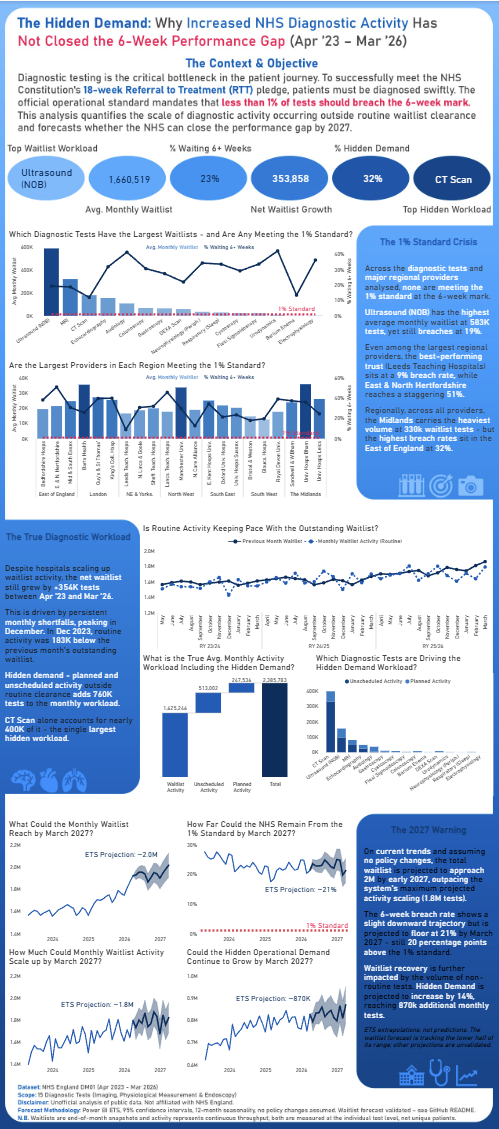

What the dashboard file says about the page in this screenshot:
{"tool":"powerbi","page":{"name":"Final Infographic","canvas":[1280,2885],"ordinal":0},"visuals":[{"type":"textbox","box":[20,577.1,890,42.9],"z":0},{"type":"lineClusteredColumnComboChart","fields":{"Y2":["_Measures.% Waiting at 6+ weeks","_Measures.1% Target"],"Y":["_Measures.Average Monthly Waitlist"],"Category":["Dim_Diagnostic_Test.Diagnostic Test Name (Refined)"]},"box":[24.3,612.9,880,301],"z":1000},{"type":"textbox","box":[20,910,667.1,40],"z":2000},{"type":"lineClusteredColumnComboChart","fields":{"Y":["_Measures.Average Monthly Waitlist"],"Y2":["_Measures.% Waiting at 6+ weeks","_Measures.1% Target"],"Category":["Dim_Region.Regional Team Name Refined","Dim_Provider.Provider Name Refined"]},"box":[24.3,947.1,880,330],"z":3000},{"type":"lineChart","fields":{"Y":["_Measures.Previous Month Waitlist","Sum(Fact_Provider.Waiting list tests / procedures (excluding planned))"],"Category":["Dim_Date.Reporting Year","Dim_Date.Month Name"]},"box":[365.7,1357.1,890,307.1],"z":4000},{"type":"textbox","box":[361.2,1327.5,730,37.5],"z":5000},{"type":"textbox","box":[362.1,1659.1,445,61.7],"z":6000},{"type":"textbox","box":[802.5,1658.8,383.8,62.5],"z":7000},{"type":"waterfallChart","fields":{"Category":["_Waterfall Categories.Activity Type"],"Y":["_Measures.Waterfall Total Activity"]},"box":[364.3,1713.2,412.9,314.3],"z":8000},{"type":"columnChart","fields":{"Y":["_Measures.Avg Unscheduled Activity","_Measures.Avg Planned Activity"],"Category":["Dim_Diagnostic_Test.Diagnostic Test Name Refined"]},"box":[777.1,1713.2,482.9,314.3],"z":9000},{"type":"lineChart","fields":{"Category":["Fact_Provider.Reporting Period"],"Y":["Sum(Fact_Provider.Total Waiting List)"]},"box":[23.8,2138.4,430,270],"z":10000},{"type":"lineChart","fields":{"Category":["Fact_Provider.Reporting Period"],"Y":["_Measures.% Waiting at 6+ weeks"]},"box":[475,2138.4,430,270],"z":11000},{"type":"textbox","box":[20,2081,378.8,60],"z":12000},{"type":"textbox","box":[475,2081,412.5,60],"z":13000},{"type":"lineChart","fields":{"Category":["Fact_Provider.Reporting Period"],"Y":["Sum(Fact_Provider.Waiting list tests / procedures (excluding planned))"]},"box":[23.8,2471.5,430,270],"z":14000},{"type":"lineChart","fields":{"Category":["Fact_Provider.Reporting Period"],"Y":["_Measures.Additional Demand (Hidden)"]},"box":[475,2471.5,430,270],"z":15000},{"type":"textbox","box":[21.2,2408.5,417.5,60],"z":16000},{"type":"textbox","box":[475,2408.7,428.8,60],"z":17000},{"type":"textbox","box":[215,2161.2,200,32.5],"z":18000},{"type":"cardVisual","fields":{"Data":["_Measures.Most Popular Test"]},"box":[28.6,370,210,162.9],"z":19000},{"type":"cardVisual","fields":{"Data":["_Measures.Average Monthly Waitlist"]},"box":[248.8,402.5,191.2,100],"z":20000},{"type":"cardVisual","fields":{"Data":["_Measures.% Waiting at 6+ weeks"]},"box":[485.7,401.4,121.4,100],"z":21000},{"type":"cardVisual","fields":{"Data":["_Measures.Total Waitlist Growth"]},"box":[668.8,398.8,156.2,107.5],"z":22000},{"type":"cardVisual","fields":{"Data":["_Measures.% Additional Demand"]},"box":[900,401.4,110,102.9],"z":23000},{"type":"cardVisual","fields":{"Data":["_Measures.Most Popular Additional Demand Test"]},"box":[1083.8,385,162.5,137.5],"z":24000},{"type":"textbox","box":[966.7,595.6,268.9,37.8],"z":25000},{"type":"textbox","box":[12.9,1345.7,336,42],"z":26000},{"type":"textbox","box":[994.4,2094.4,214.4,38.9],"z":27000},{"type":"textbox","box":[371.1,614.4,151.1,28.9],"z":28000},{"type":"textbox","box":[516.7,614.4,142.2,34.4],"z":29000},{"type":"textbox","box":[707.5,771.2,105,33.8],"z":30000},{"type":"textbox","box":[516.7,946.7,142.2,34.4],"z":31000},{"type":"textbox","box":[716.2,1086.2,107.5,35],"z":32000},{"type":"textbox","box":[370,946.7,152.2,34.4],"z":33000},{"type":"textbox","box":[927.5,663.8,341.2,502.5],"z":34000},{"type":"textbox","box":[10,1427.5,337.5,481.2],"z":35000},{"type":"textbox","box":[925,2150,341.2,533.8],"z":36000},{"type":"textbox","box":[778.8,2341.2,127.5,33.8],"z":37000},{"type":"textbox","box":[152.5,2543.8,200,32.5],"z":38000},{"type":"textbox","box":[672.5,2250,197.5,32.5],"z":39000},{"type":"textbox","box":[598.8,2527.5,205,32.5],"z":40000}]}

Visuals, with their boxes in screenshot pixels (x1, y1, x2, y2), scaled from the page's 1280x2885 canvas onto the 499x1129 screenshot:
textbox: x1=8, y1=226, x2=355, y2=243
lineClusteredColumnComboChart - _Measures.% Waiting at 6+ weeks x _Measures.1% Target: x1=9, y1=240, x2=353, y2=358
textbox: x1=8, y1=356, x2=268, y2=372
lineClusteredColumnComboChart - _Measures.Average Monthly Waitlist x _Measures.% Waiting at 6+ weeks: x1=9, y1=371, x2=353, y2=500
lineChart - _Measures.Previous Month Waitlist x Sum(Fact_Provider.Waiting list tests / procedures (excluding planned)): x1=143, y1=531, x2=490, y2=651
textbox: x1=141, y1=519, x2=425, y2=534
textbox: x1=141, y1=649, x2=315, y2=673
textbox: x1=313, y1=649, x2=462, y2=674
waterfallChart - _Waterfall Categories.Activity Type x _Measures.Waterfall Total Activity: x1=142, y1=670, x2=303, y2=793
columnChart - _Measures.Avg Unscheduled Activity x _Measures.Avg Planned Activity: x1=303, y1=670, x2=491, y2=793
lineChart - Fact_Provider.Reporting Period x Sum(Fact_Provider.Total Waiting List): x1=9, y1=837, x2=177, y2=942
lineChart - Fact_Provider.Reporting Period x _Measures.% Waiting at 6+ weeks: x1=185, y1=837, x2=353, y2=942
textbox: x1=8, y1=814, x2=155, y2=838
textbox: x1=185, y1=814, x2=346, y2=838
lineChart - Fact_Provider.Reporting Period x Sum(Fact_Provider.Waiting list tests / procedures (excluding planned)): x1=9, y1=967, x2=177, y2=1073
lineChart - Fact_Provider.Reporting Period x _Measures.Additional Demand (Hidden): x1=185, y1=967, x2=353, y2=1073
textbox: x1=8, y1=943, x2=171, y2=966
textbox: x1=185, y1=943, x2=352, y2=966
textbox: x1=84, y1=846, x2=162, y2=858
cardVisual - _Measures.Most Popular Test: x1=11, y1=145, x2=93, y2=209
cardVisual - _Measures.Average Monthly Waitlist: x1=97, y1=158, x2=172, y2=197
cardVisual - _Measures.% Waiting at 6+ weeks: x1=189, y1=157, x2=237, y2=196
cardVisual - _Measures.Total Waitlist Growth: x1=261, y1=156, x2=322, y2=198
cardVisual - _Measures.% Additional Demand: x1=351, y1=157, x2=394, y2=197
cardVisual - _Measures.Most Popular Additional Demand Test: x1=423, y1=151, x2=486, y2=204
textbox: x1=377, y1=233, x2=482, y2=248
textbox: x1=5, y1=527, x2=136, y2=543
textbox: x1=388, y1=820, x2=471, y2=835
textbox: x1=145, y1=240, x2=204, y2=252
textbox: x1=201, y1=240, x2=257, y2=254
textbox: x1=276, y1=302, x2=317, y2=315
textbox: x1=201, y1=370, x2=257, y2=384
textbox: x1=279, y1=425, x2=321, y2=439
textbox: x1=144, y1=370, x2=204, y2=384
textbox: x1=362, y1=260, x2=495, y2=456
textbox: x1=4, y1=559, x2=135, y2=747
textbox: x1=361, y1=841, x2=494, y2=1050
textbox: x1=304, y1=916, x2=353, y2=929
textbox: x1=59, y1=995, x2=137, y2=1008
textbox: x1=262, y1=881, x2=339, y2=893
textbox: x1=233, y1=989, x2=313, y2=1002
